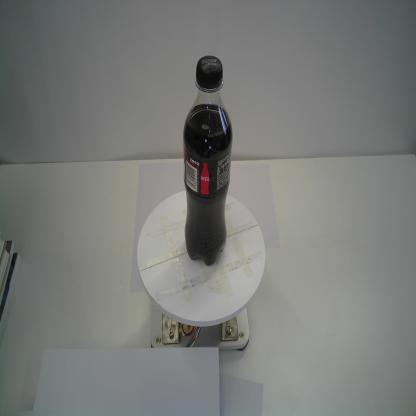Drink: (181, 55, 235, 266)
